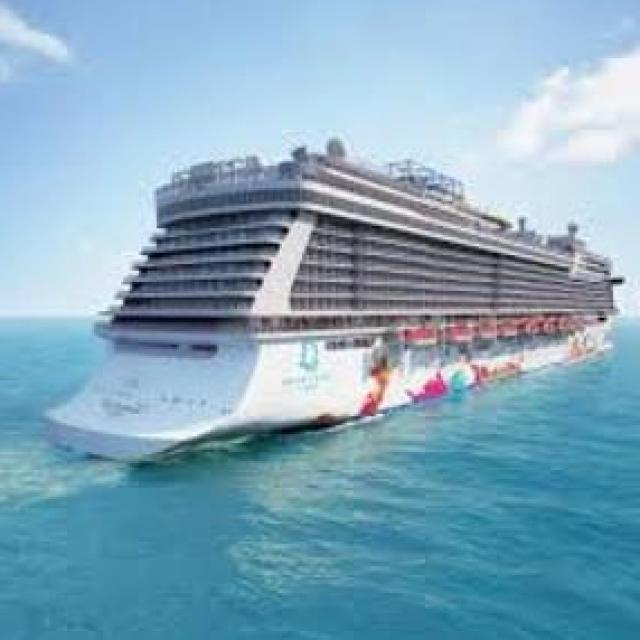passenger ship: (42, 125, 629, 473)
